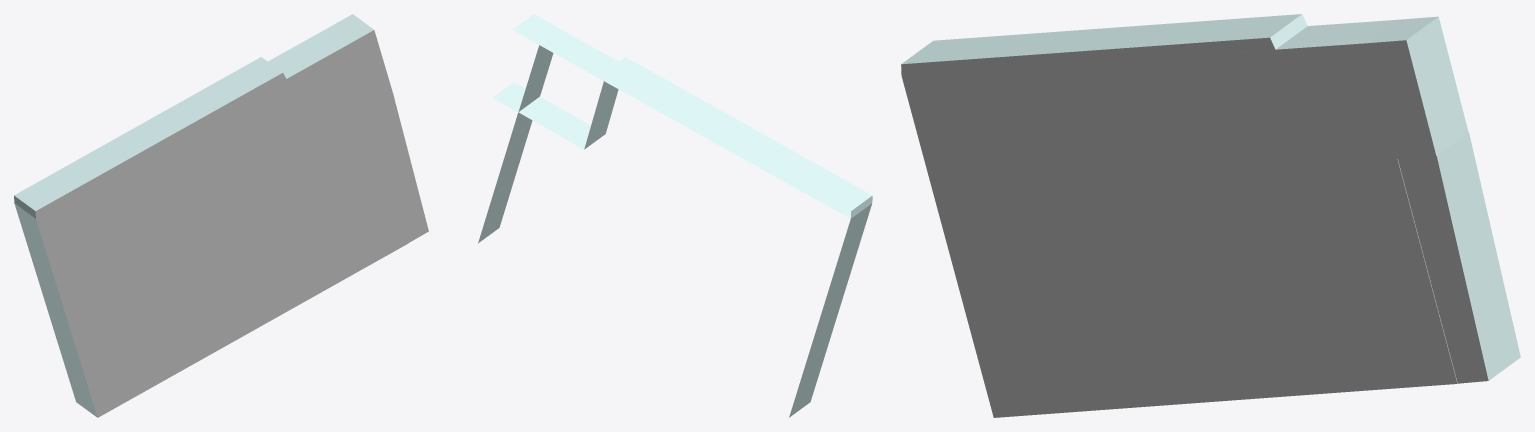
3 renders of one model, left to right at view 1: azimuth 30°, elevation 25°; view 2: azimuth 150°, elevation 25°; view 3: azimuth 330°, elevation 25°, orthographic. The views are drawn at different scales.
Visible parts, largest first — view 1: 0_2_2_3_2_0_1_2_1; view 2: 0_2_2_3_2_0_1_2_1; view 3: 0_2_2_3_2_0_1_2_1.
Boxes of the visible parts, left/top/right/bottom form: 0_2_2_3_2_0_1_2_1: left=14, top=14, right=428, bottom=417; 0_2_2_3_2_0_1_2_1: left=478, top=14, right=872, bottom=417; 0_2_2_3_2_0_1_2_1: left=901, top=14, right=1520, bottom=417.
Bounding box in the file's own units: 31.51 × 24.54 × 3.03.
